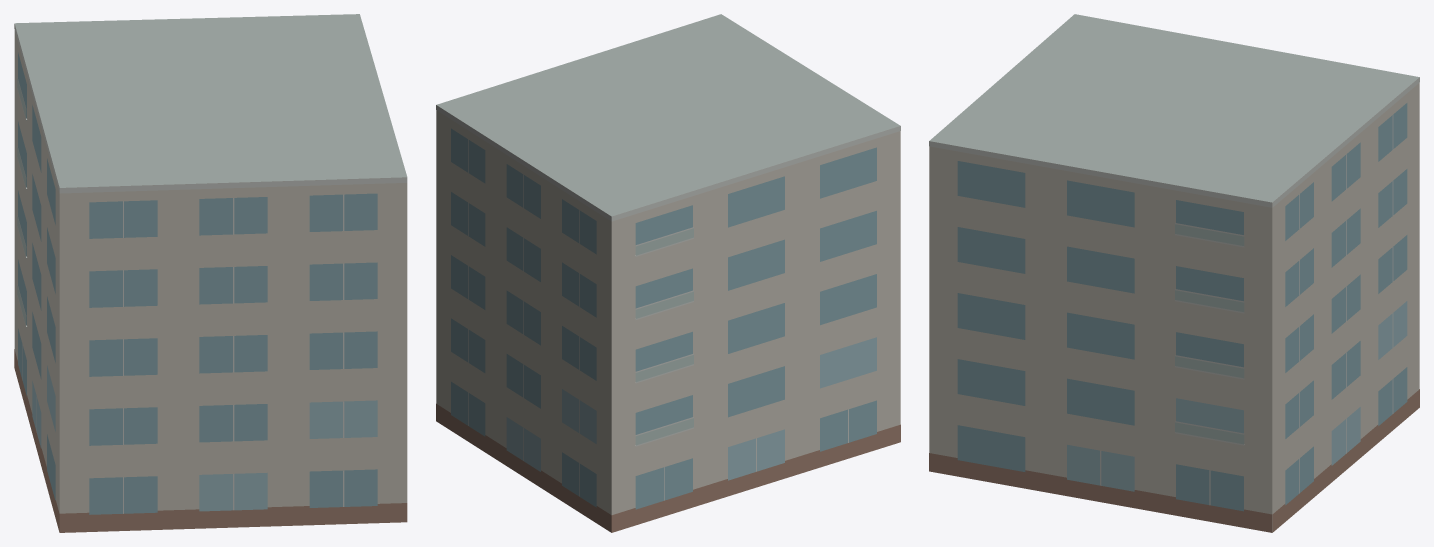
File: residential-465cd2a8-47f6-42c9-a565-ba2734962f57.glb
3 views of the same model, side by side, from view 1: azimuth 30°, elevation 25°; view 2: azimuth 150°, elevation 25°; view 3: azimuth 270°, elevation 25° (orthographic). The views are drawn at different scales.
Parts seen in each view (by area): view 1: residential-465cd2a8-47f6-42c9-a565-ba2734962f57.tmp; view 2: residential-465cd2a8-47f6-42c9-a565-ba2734962f57.tmp; view 3: residential-465cd2a8-47f6-42c9-a565-ba2734962f57.tmp.
Boxes of the visible parts, bbox=[...] form: residential-465cd2a8-47f6-42c9-a565-ba2734962f57.tmp: bbox=[14, 14, 407, 532]; residential-465cd2a8-47f6-42c9-a565-ba2734962f57.tmp: bbox=[436, 14, 900, 532]; residential-465cd2a8-47f6-42c9-a565-ba2734962f57.tmp: bbox=[929, 14, 1419, 532].
Size of the model in its own units: 18.68 by 15.25 by 20.54.
